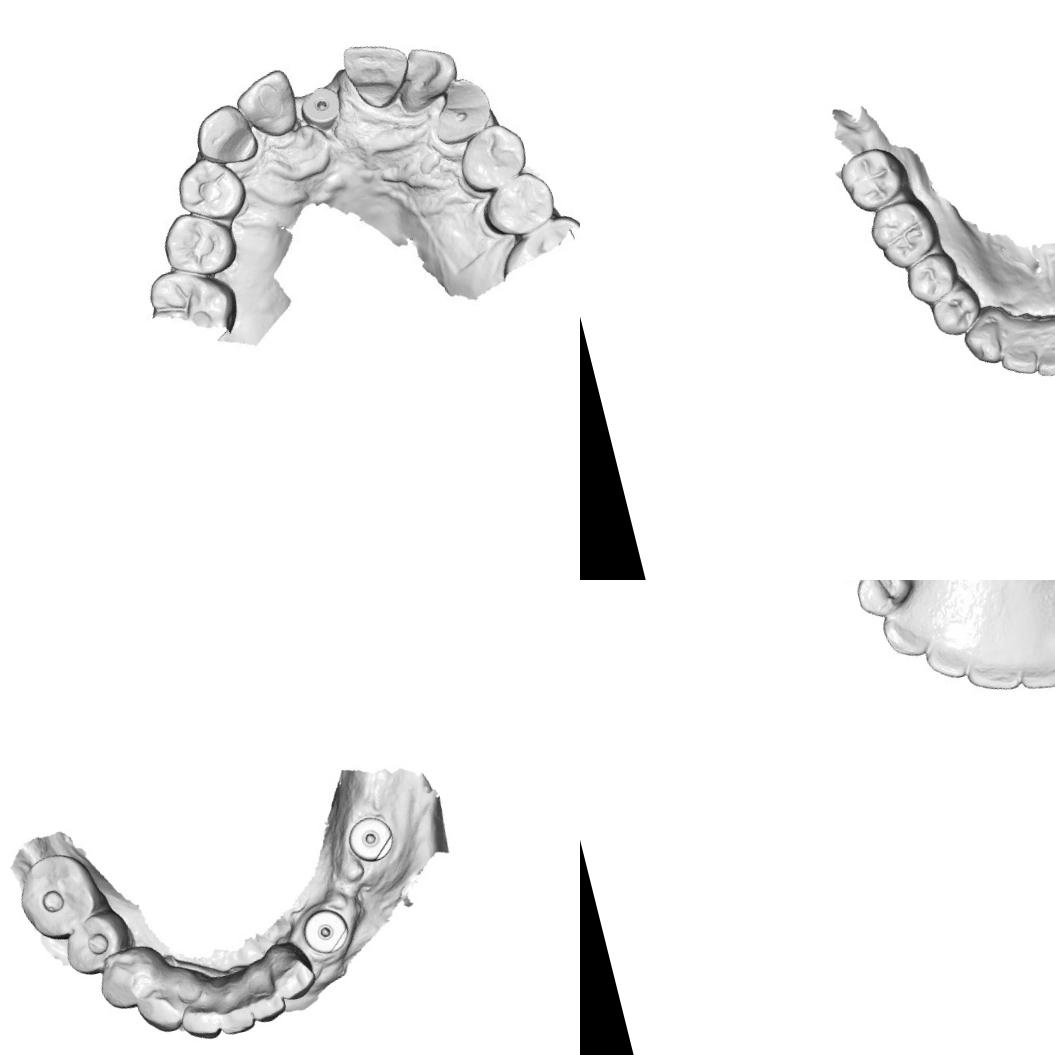canine: (421, 71, 500, 148), (188, 101, 260, 172), (875, 598, 944, 666), (132, 973, 195, 1037), (958, 314, 1007, 368)
implant: (342, 810, 401, 866), (297, 903, 355, 959), (295, 82, 346, 138)
incisor: (336, 31, 419, 118), (227, 65, 302, 145), (384, 38, 462, 114), (960, 641, 1028, 699), (208, 982, 260, 1040), (920, 632, 974, 686), (173, 990, 225, 1046), (269, 950, 319, 1004), (994, 328, 1042, 382), (242, 974, 290, 1026), (1011, 640, 1055, 696), (1024, 318, 1055, 380)
molar: (8, 844, 107, 948), (864, 194, 945, 276), (834, 140, 914, 216)
premolar: (154, 201, 245, 285), (164, 148, 252, 230), (473, 166, 563, 241), (446, 118, 531, 196), (56, 905, 136, 980), (90, 940, 167, 1015), (900, 248, 963, 309), (925, 281, 987, 341), (852, 580, 914, 619)
